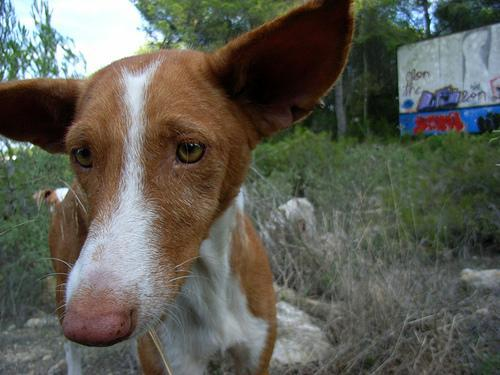Ibizan_hound: (1, 0, 354, 372)
